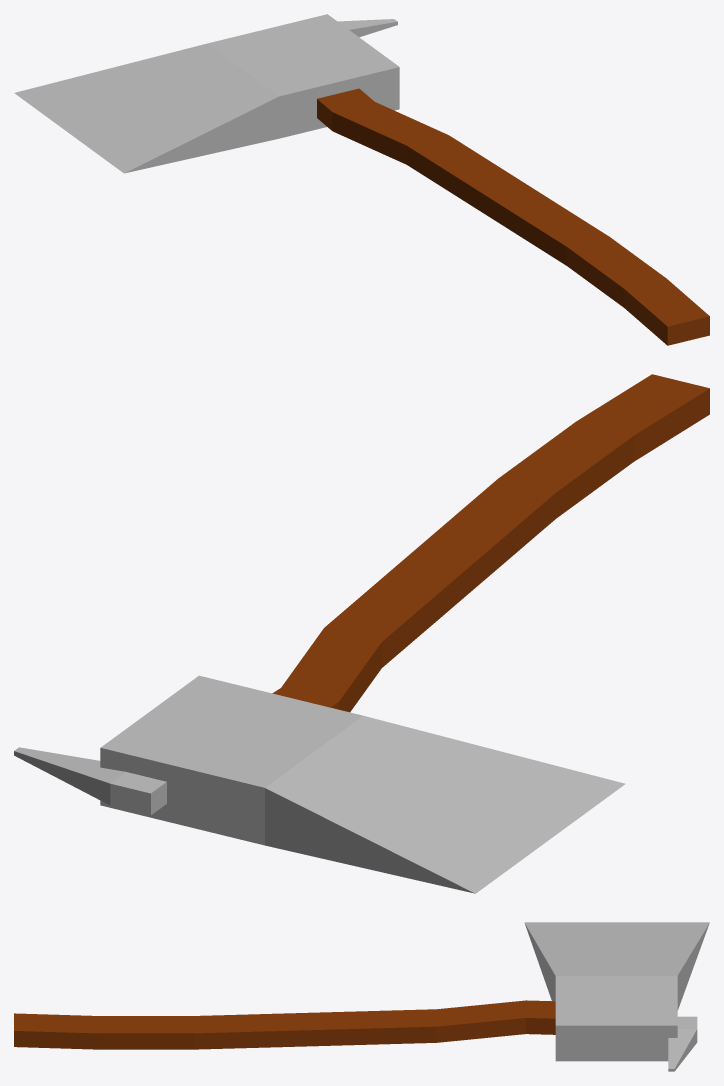
Rendered from Axe_01.fbx.
3 renders of one model, top to bottom at view 1: azimuth 30°, elevation 25°; view 2: azimuth 150°, elevation 25°; view 3: azimuth 270°, elevation 25°, orthographic. The views are drawn at different scales.
Parts seen in each view (by area): view 1: Axe_01; view 2: Axe_01; view 3: Axe_01.
Boxes of the visible parts, x1,y1,x2,y2 form: Axe_01: [14, 14, 709, 345]; Axe_01: [14, 374, 709, 893]; Axe_01: [14, 922, 709, 1071].
Size of the model in its own units: 66.22 by 7.44 by 132.
